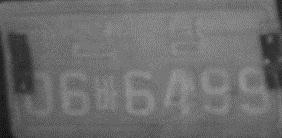0: (22, 69, 55, 120)
4: (161, 67, 197, 115)
6: (122, 68, 156, 119), (57, 68, 91, 118)
9: (236, 64, 270, 114), (200, 65, 233, 116)
바: (92, 72, 120, 115)
영: (21, 19, 59, 58)
전남_D: (67, 14, 206, 62)
